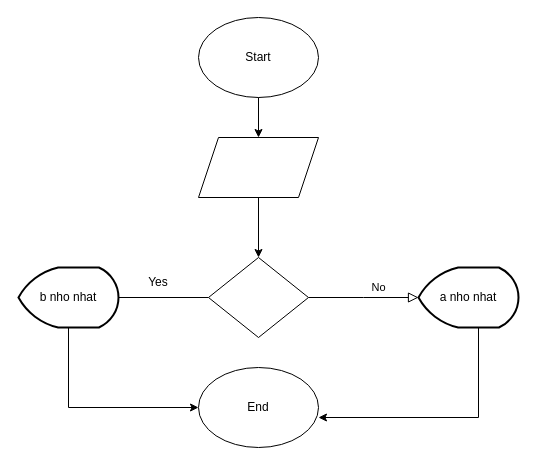
The diagram is 536 pixels wide and 465 high, and some of its shapes have lost their labels. Here are the shapes that lost their labels. From the top down, the box of each, then its label:
(198, 136, 318, 198): Nhap gia tri a Nhap gia tri b
(208, 256, 308, 338): a > b
